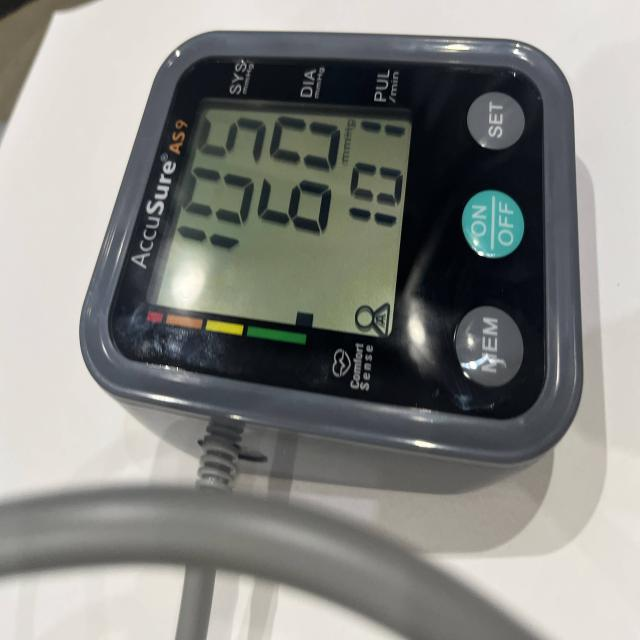bp: (79, 30, 585, 501)
